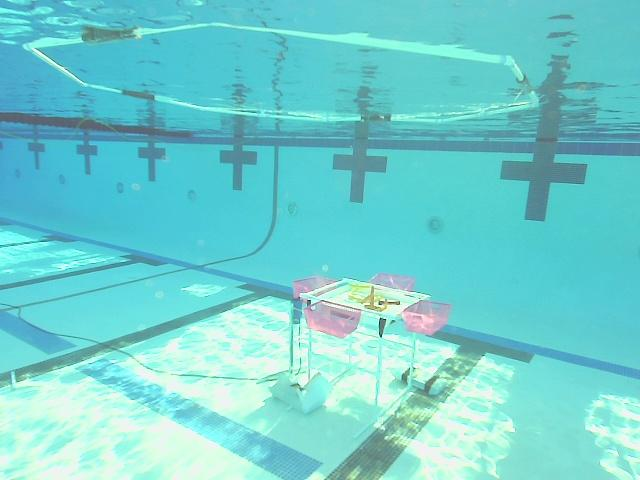table: (292, 270, 453, 409)
